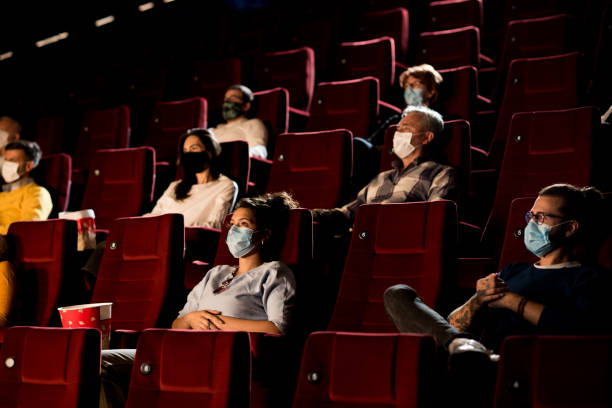with mask: (523, 192, 578, 264), (175, 126, 217, 183), (394, 108, 435, 161), (226, 204, 262, 260), (214, 85, 257, 127), (402, 63, 433, 112), (1, 143, 37, 185), (1, 111, 23, 144)
